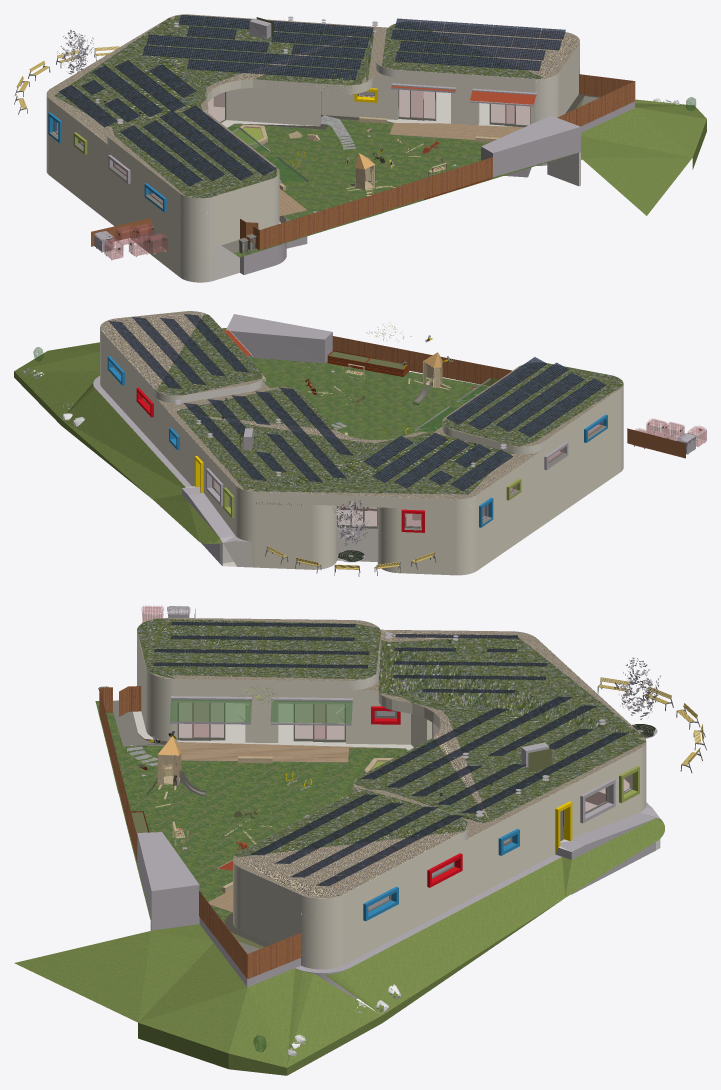
Rendered from hustopece.glb.
3 views of the same model, one above another, from view 1: azimuth 30°, elevation 25°; view 2: azimuth 150°, elevation 25°; view 3: azimuth 270°, elevation 25° (orthographic). The views are drawn at different scales.
Parts seen in each view (by area): view 1: hustopece_architecture; view 2: hustopece_architecture; view 3: hustopece_architecture.
Part boxes in pixels (left/top/right/bottom): hustopece_architecture: left=14, top=14, right=706, bottom=282; hustopece_architecture: left=14, top=311, right=706, bottom=576; hustopece_architecture: left=14, top=606, right=706, bottom=1075.
Size of the model in its own units: 53.34 by 10.47 by 39.83.
31 materials, 13 textured.
